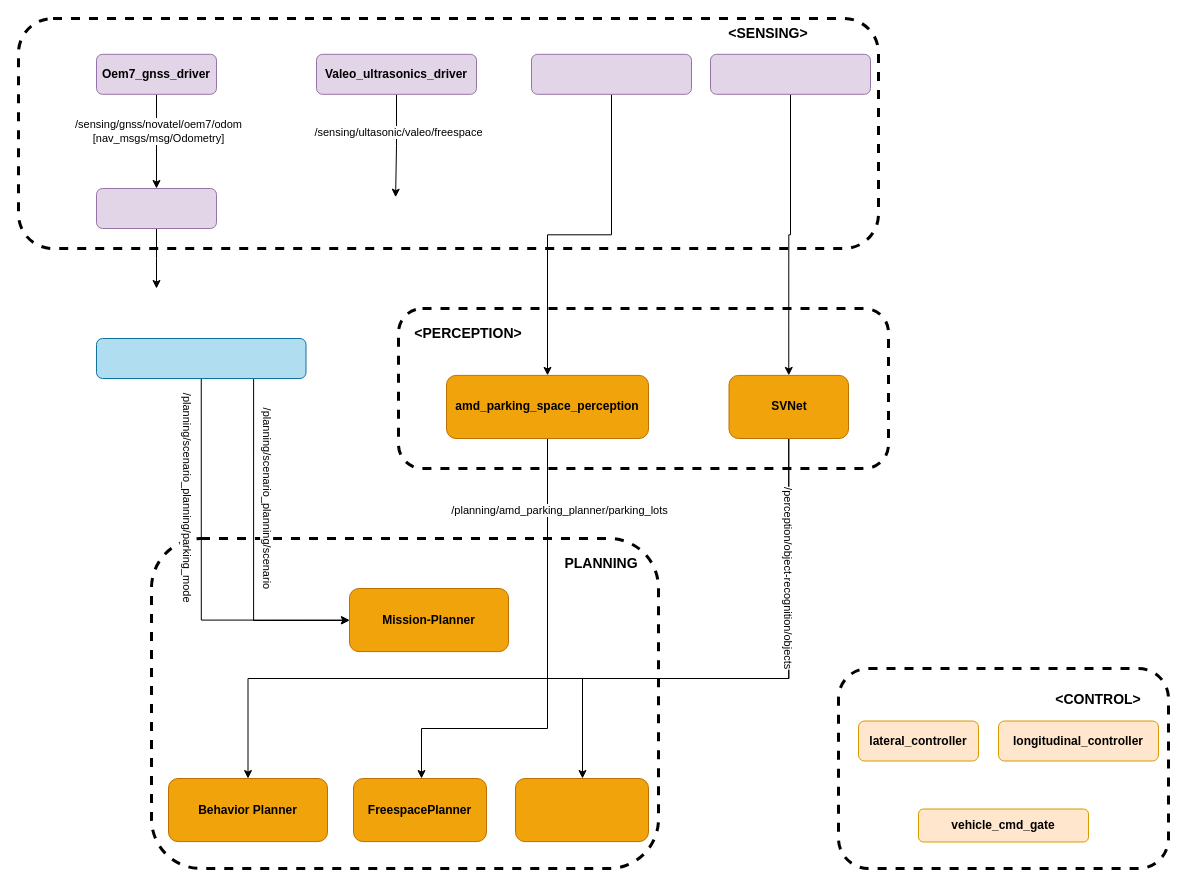
Image size: 1187x887. Some labels were removed from this diagram. The shapes that lost their labels are listed below. From the top down, each one's box as (x1, y1, x2, y2) in pixels, then its label:
(530, 53, 692, 94): 4 * Fisheye cameras
(710, 53, 870, 94): 1 * Front Facing Camera
(96, 188, 216, 228): gnss_poser
(96, 338, 306, 378): RVIZ / HMI
(514, 778, 648, 842): LKA Planner
